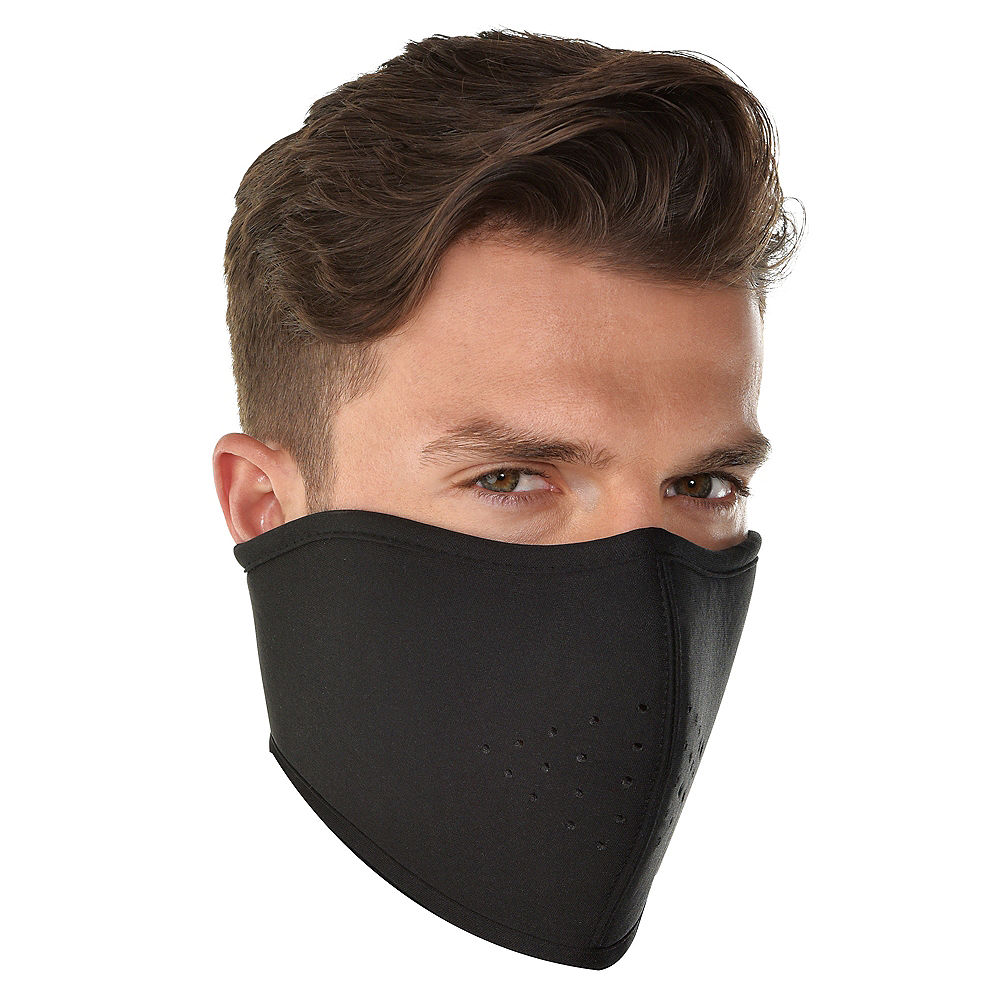Mask: (251, 207, 774, 953)
